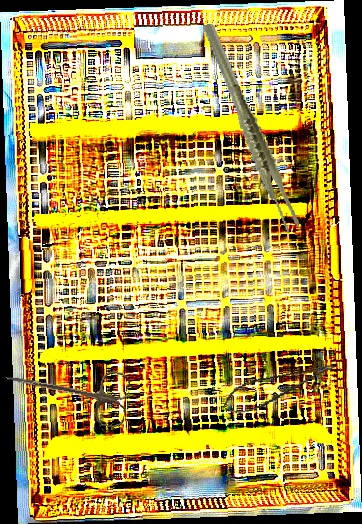Iris Scissors: (1, 352, 132, 430)
Micro Scissor: (219, 359, 340, 419)
Tissue Forceps: (201, 14, 302, 242)
